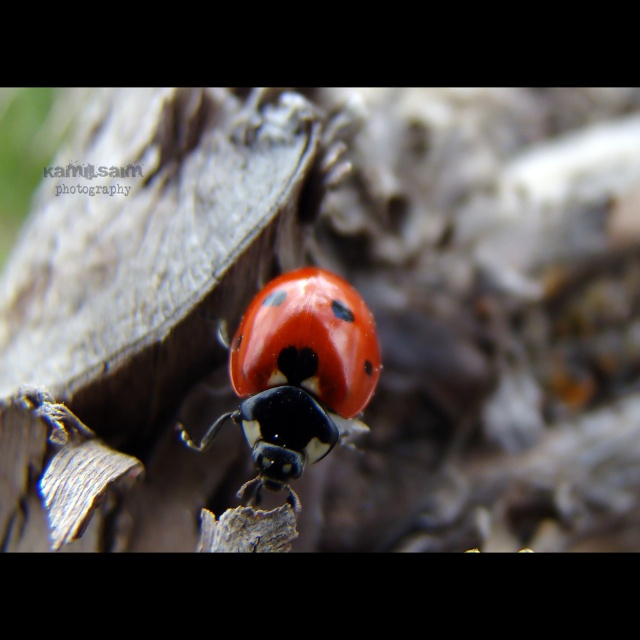Ladybug: (170, 267, 381, 513)
